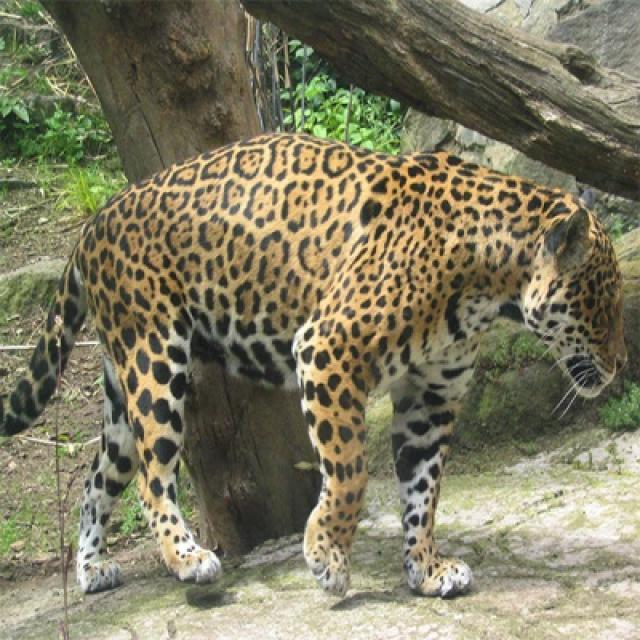Jaguar: (8, 133, 630, 603)
